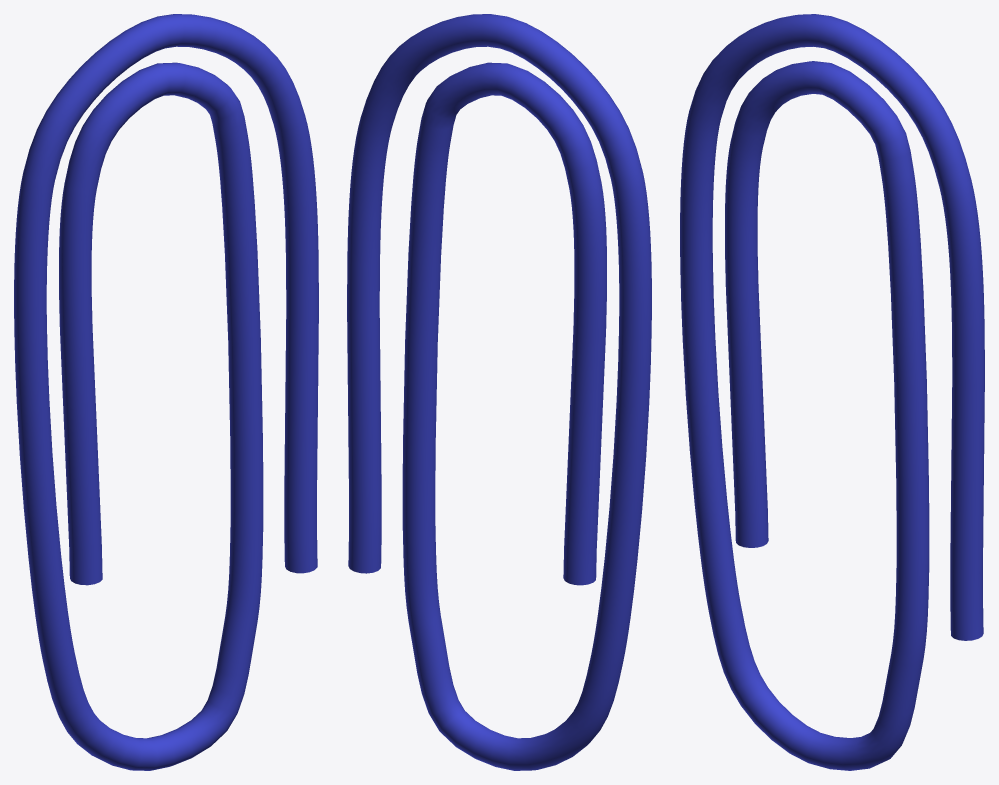
File: paperclip.fbx
3 views of the same model, side by side, from view 1: azimuth 30°, elevation 25°; view 2: azimuth 150°, elevation 25°; view 3: azimuth 330°, elevation 25° (orthographic).
Parts seen in each view (by area): view 1: root; view 2: root; view 3: root.
Boxes of the visible parts, left/top/right/bottom form: root: left=14, top=14, right=318, bottom=770; root: left=347, top=14, right=651, bottom=770; root: left=680, top=14, right=984, bottom=770.
Size of the model in its own units: 0.2101 by 0.5003 by 0.0198.
